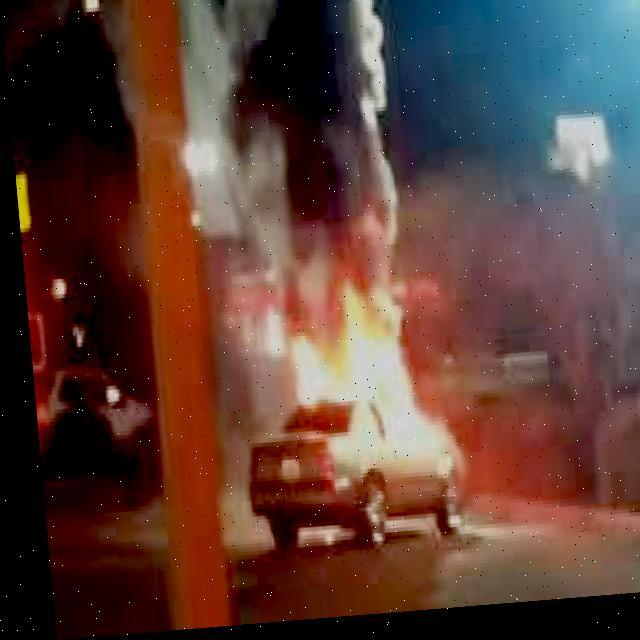Fire: (254, 282, 454, 496)
